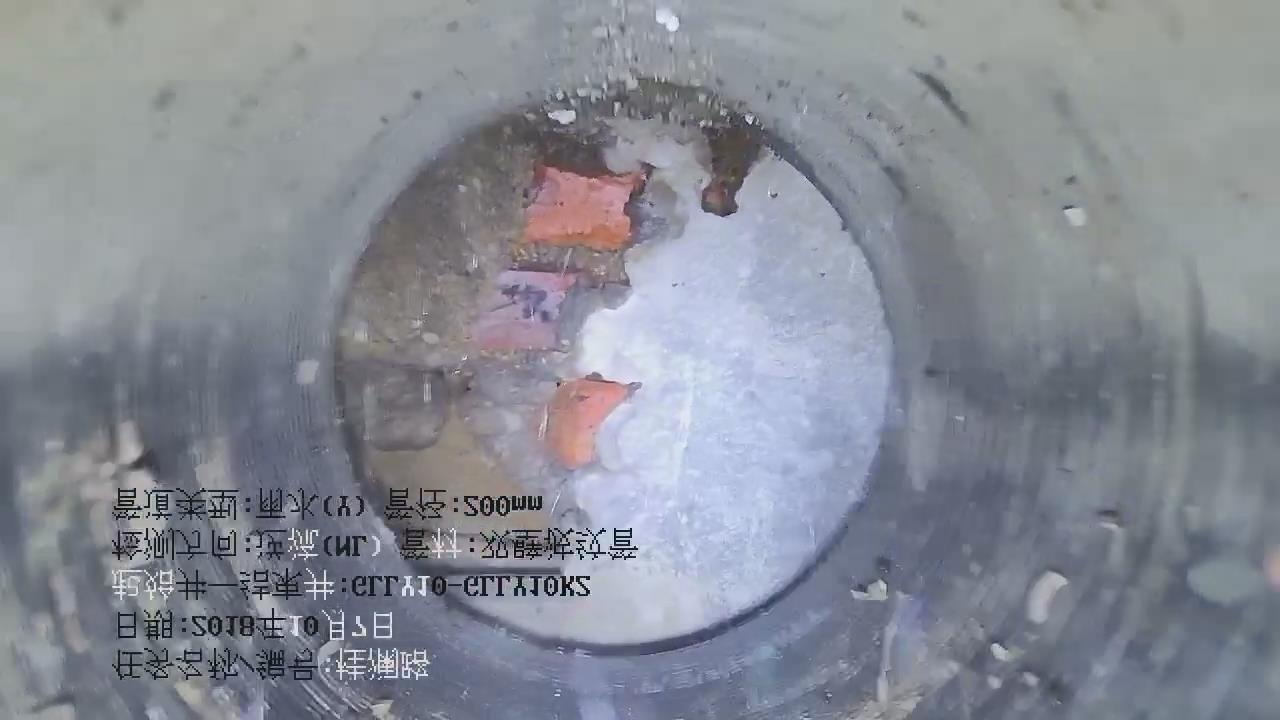CQBG: (337, 107, 891, 652)
